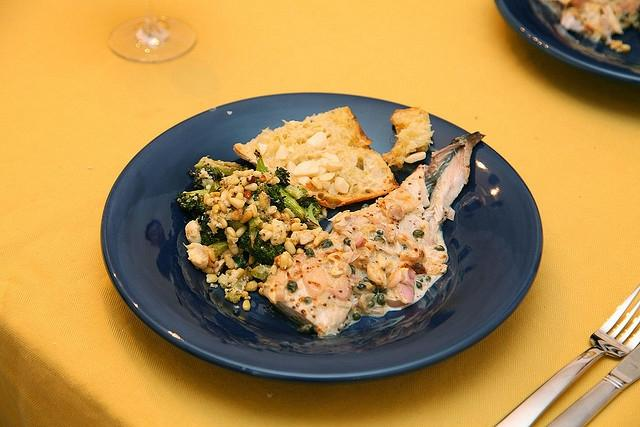broccoli: (236, 230, 286, 266), (266, 184, 306, 221), (187, 163, 225, 190), (198, 214, 228, 246), (177, 189, 212, 212), (254, 149, 269, 175), (282, 185, 308, 200)
